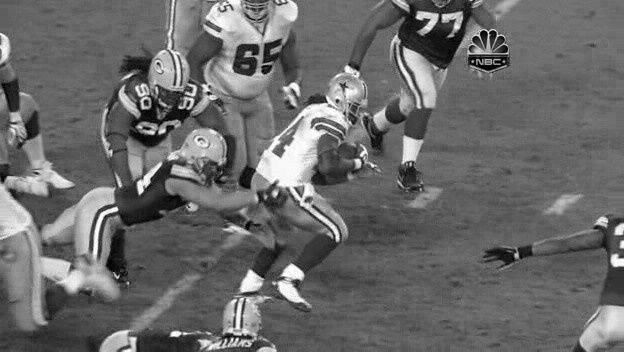person: (330, 77, 366, 123), (329, 77, 365, 123), (331, 77, 367, 123), (330, 76, 366, 122), (330, 78, 366, 124)
target_negative: (152, 70, 230, 330), (159, 77, 534, 124), (242, 55, 419, 148), (545, 261, 594, 343), (259, 217, 569, 226), (259, 114, 552, 122)
